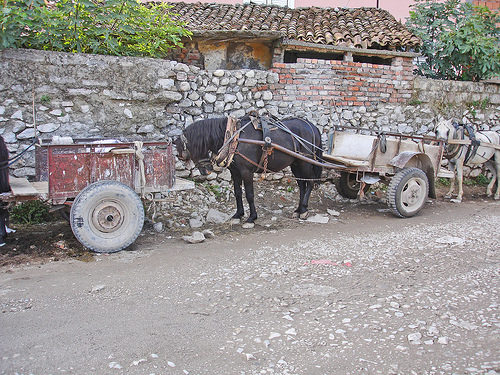horse: (175, 112, 324, 229)
